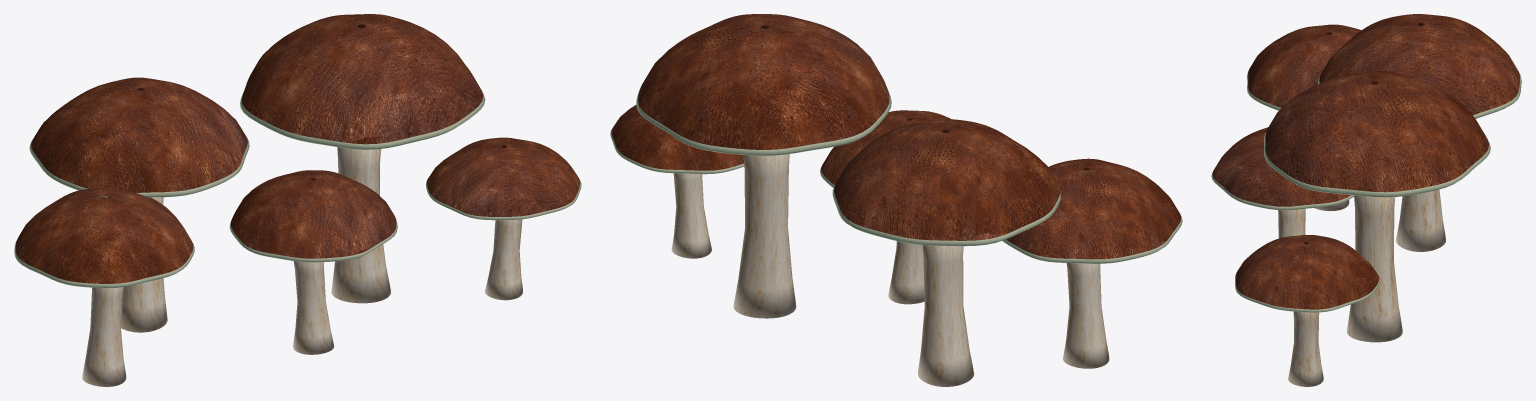
File: bioluminescent-fungi-v02.glb
3 views of the same model, side by side, from view 1: azimuth 30°, elevation 25°; view 2: azimuth 150°, elevation 25°; view 3: azimuth 270°, elevation 25° (orthographic). The views are drawn at different scales.
Parts seen in each view (by area): view 1: mushroom 4 chestnut cap, mushroom 2 chestnut cap, mushroom 1 chestnut cap, mushroom 3 chestnut cap, mushroom 5 chestnut cap, mushroom 4 ivory stem, mushroom 1 ivory stem, mushroom 3 ivory stem, mushroom 5 ivory stem, mushroom 2 ivory stem; view 2: mushroom 4 chestnut cap, mushroom 2 chestnut cap, mushroom 1 chestnut cap, mushroom 4 ivory stem, mushroom 2 ivory stem, mushroom 5 chestnut cap, mushroom 1 ivory stem, mushroom 5 ivory stem, mushroom 3 chestnut cap, mushroom 3 ivory stem; view 3: mushroom 4 chestnut cap, mushroom 2 chestnut cap, mushroom 5 chestnut cap, mushroom 4 ivory stem, mushroom 1 chestnut cap, mushroom 3 chestnut cap, mushroom 2 ivory stem, mushroom 5 ivory stem, mushroom 3 ivory stem.
Boxes of the visible parts, x1,y1,x2,y2 form: mushroom 4 chestnut cap: [240, 14, 485, 149]; mushroom 2 chestnut cap: [29, 77, 249, 197]; mushroom 1 chestnut cap: [14, 188, 194, 288]; mushroom 3 chestnut cap: [229, 170, 397, 262]; mushroom 5 chestnut cap: [425, 137, 581, 220]; mushroom 4 ivory stem: [331, 147, 390, 303]; mushroom 1 ivory stem: [82, 287, 126, 386]; mushroom 3 ivory stem: [293, 261, 334, 354]; mushroom 5 ivory stem: [485, 219, 522, 300]; mushroom 2 ivory stem: [121, 197, 167, 332]; mushroom 4 chestnut cap: [636, 14, 891, 155]; mushroom 2 chestnut cap: [832, 119, 1060, 246]; mushroom 1 chestnut cap: [1002, 158, 1182, 263]; mushroom 4 ivory stem: [733, 154, 796, 318]; mushroom 2 ivory stem: [918, 245, 974, 386]; mushroom 5 chestnut cap: [610, 105, 744, 174]; mushroom 1 ivory stem: [1063, 263, 1109, 368]; mushroom 5 ivory stem: [671, 173, 711, 258]; mushroom 3 chestnut cap: [820, 110, 951, 187]; mushroom 3 ivory stem: [888, 241, 924, 304]; mushroom 4 chestnut cap: [1264, 71, 1490, 197]; mushroom 2 chestnut cap: [1318, 14, 1521, 118]; mushroom 5 chestnut cap: [1235, 235, 1380, 312]; mushroom 4 ivory stem: [1347, 195, 1402, 342]; mushroom 1 chestnut cap: [1247, 24, 1361, 110]; mushroom 3 chestnut cap: [1211, 127, 1353, 210]; mushroom 2 ivory stem: [1396, 189, 1445, 251]; mushroom 5 ivory stem: [1288, 311, 1323, 386]; mushroom 3 ivory stem: [1278, 208, 1305, 238].
Bounding box in the file's own units: 1.01 × 0.4769 × 0.5408.
4 materials, 2 textured.
